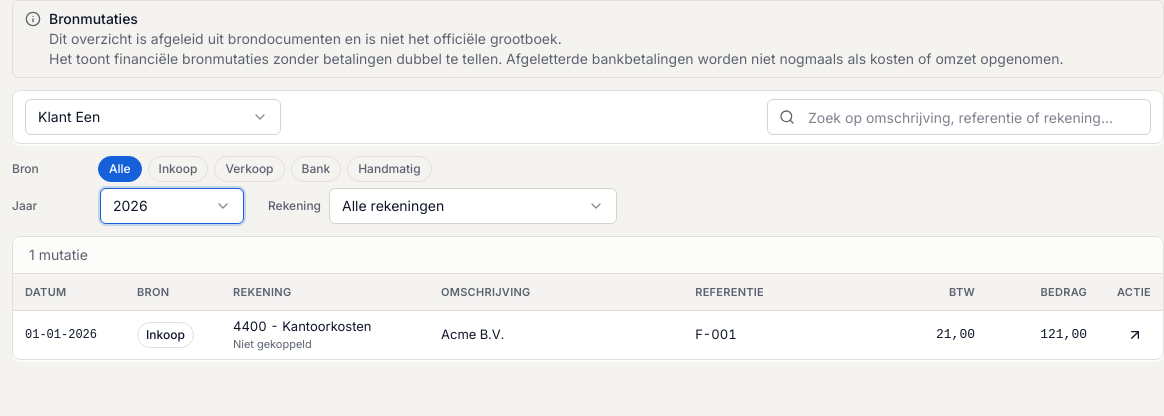
Test: Grootboekmutaties — states › 54d. toont een jaarspecifieke lege staat
Earlier steps of the test are not shown.
What coordinates should you click on to do the following:
click the button "Handmatig"
I would click on:
 (389, 169)
Its box is [347,156,432,182].
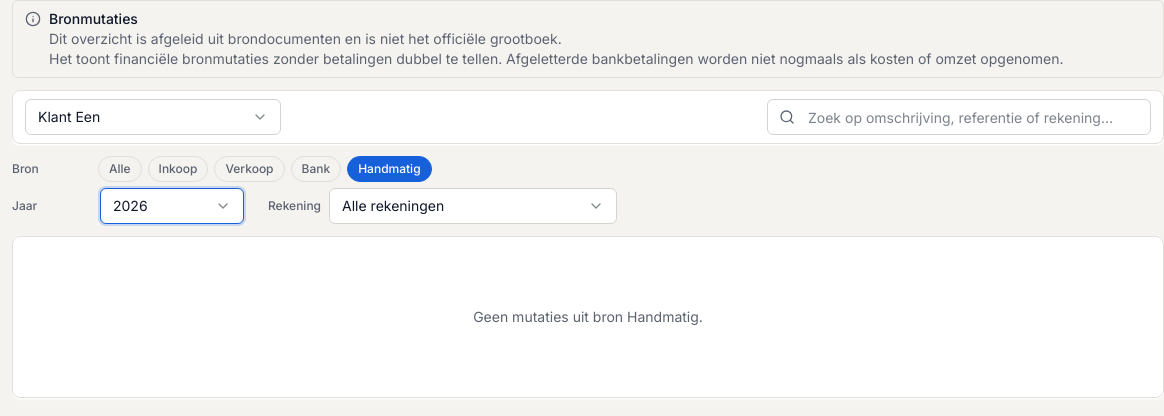
Now the text "Geen mutaties uit bron Handmatig." is shown, box [473,306,703,328]
